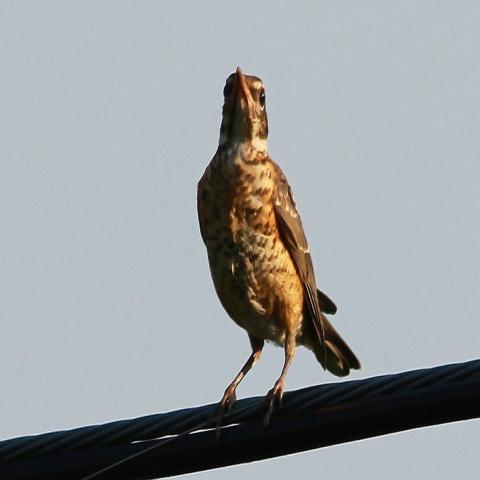bird: (193, 64, 362, 438)
